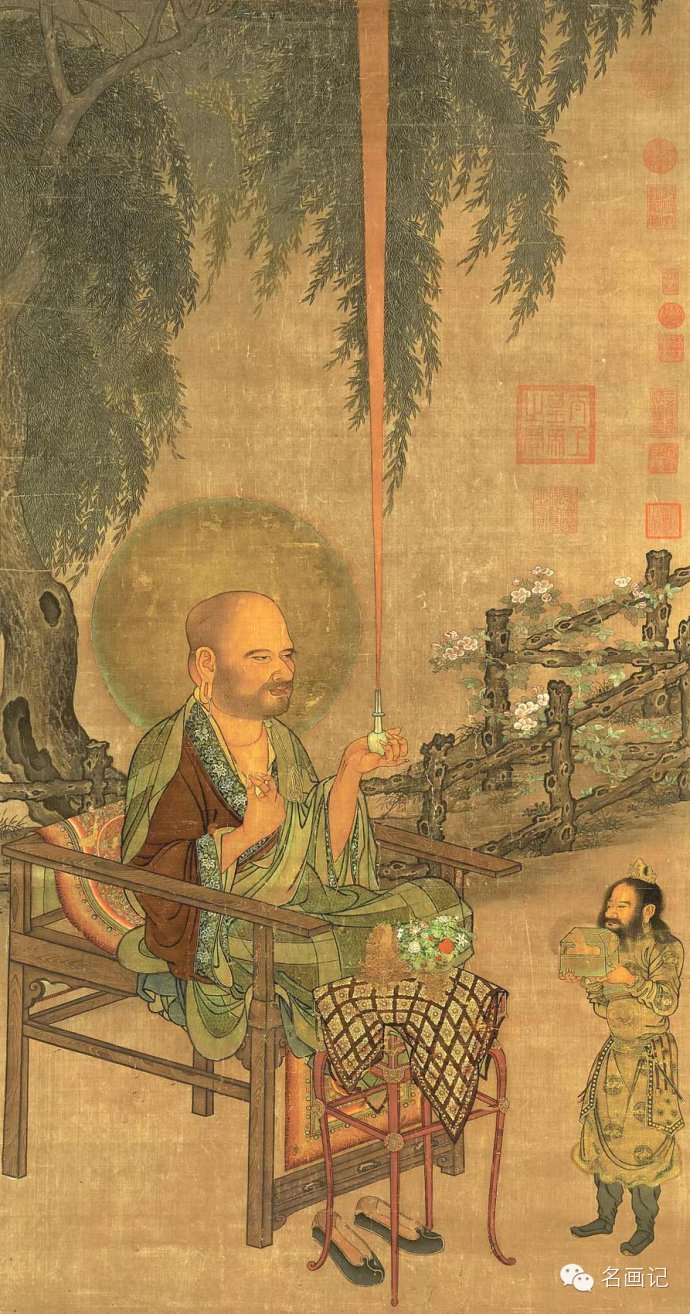man: (552, 856, 683, 1258)
monk: (80, 485, 491, 1065)
table: (307, 956, 532, 1314)
tree: (1, 1, 646, 828)
